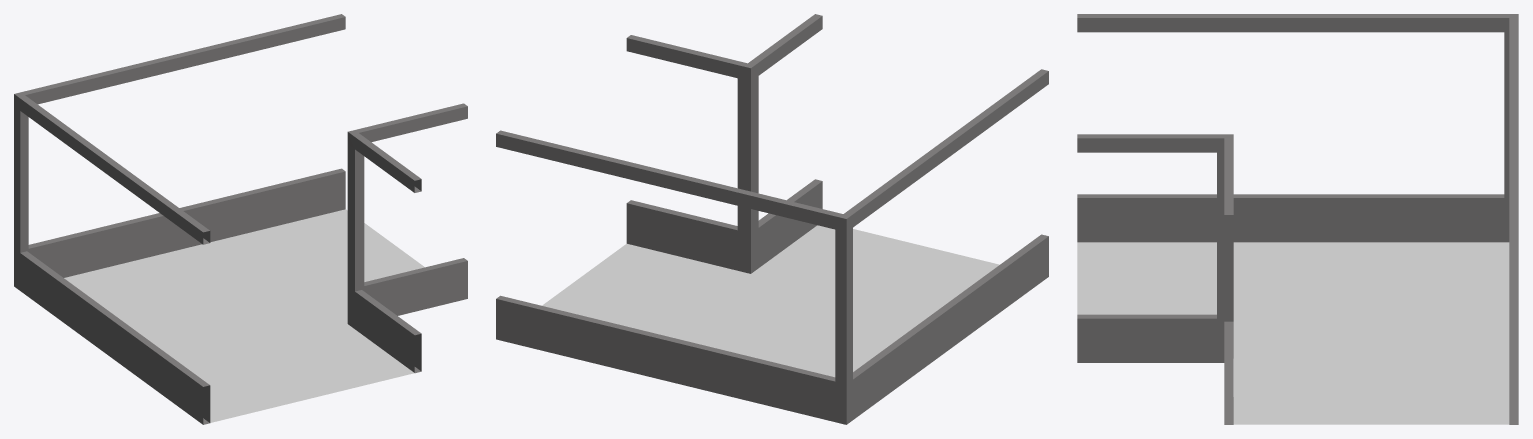
Rendered from SM_RunwayCorner.fbx.
3 renders of one model, left to right at view 1: azimuth 30°, elevation 25°; view 2: azimuth 150°, elevation 25°; view 3: azimuth 270°, elevation 25°, orthographic. The views are drawn at different scales.
Visible parts, largest first — view 1: Cube.010; view 2: Cube.010; view 3: Cube.010.
Part boxes in pixels (bbox=[...]): Cube.010: bbox=[14, 14, 467, 424]; Cube.010: bbox=[496, 14, 1048, 424]; Cube.010: bbox=[1077, 14, 1518, 424].
Bounding box in the file's own units: 150 × 150 × 84.2.
